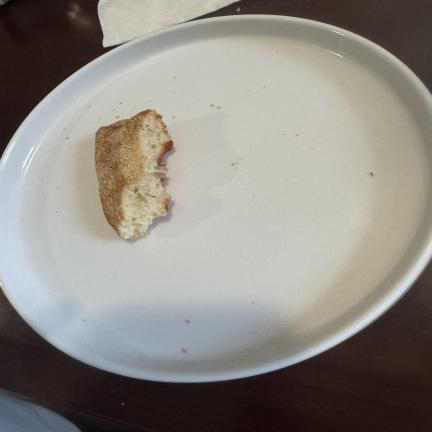pizza: (76, 111, 189, 244)
